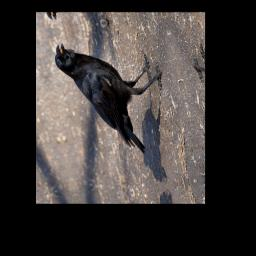Crow: (50, 27, 181, 166)
